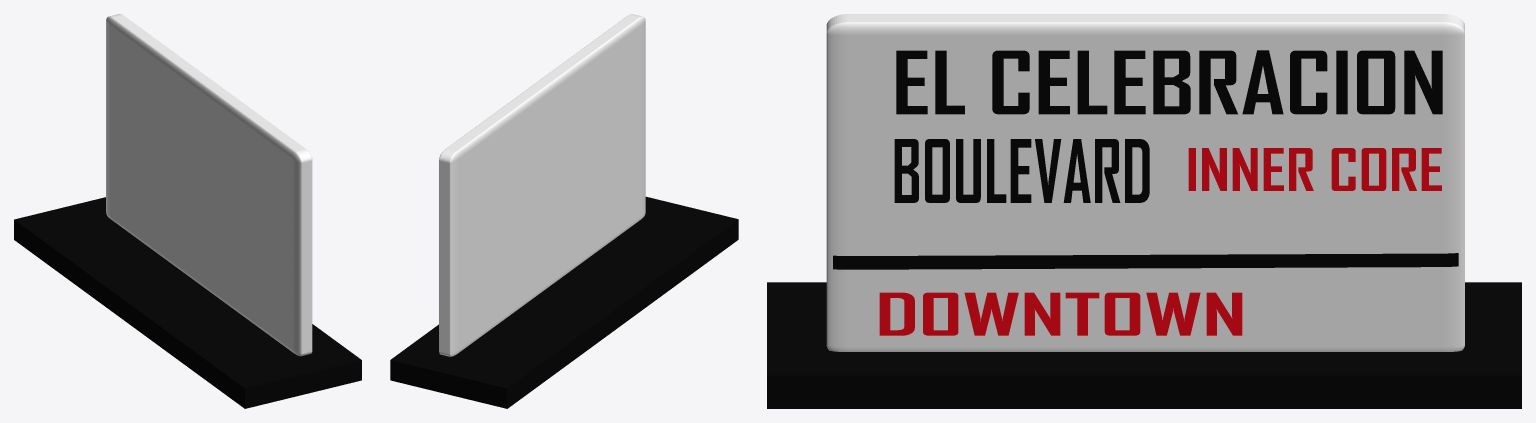
The model's file is uk_styled_street_sign_64.fbx.
The picture shows the model from 3 angles, left to right: view 1: azimuth 30°, elevation 25°; view 2: azimuth 150°, elevation 25°; view 3: azimuth 270°, elevation 25°; orthographic projection. The views are drawn at different scales.
Visible parts, largest first — view 1: Cube, Cube.001; view 2: Cube, Cube.001; view 3: Cube, Cube.001, Text, Text.002, Text.001, Text.003.
Boxes of the visible parts, x1,y1,x2,y2 form: Cube: (106, 14, 312, 356); Cube.001: (14, 197, 361, 408); Cube: (439, 14, 645, 356); Cube.001: (390, 196, 738, 408); Cube: (826, 14, 1464, 351); Cube.001: (767, 282, 1521, 408); Text: (896, 50, 1442, 114); Text.002: (879, 292, 1242, 335); Text.001: (894, 139, 1149, 202); Text.003: (1188, 148, 1441, 190).
Bounding box in the file's own units: 12 × 21.71 × 41.07.
